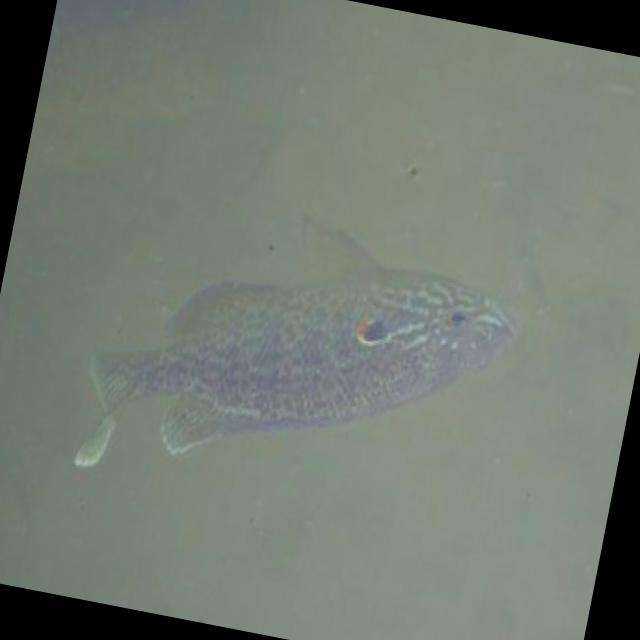Gunes Levregi: (55, 168, 538, 582)
